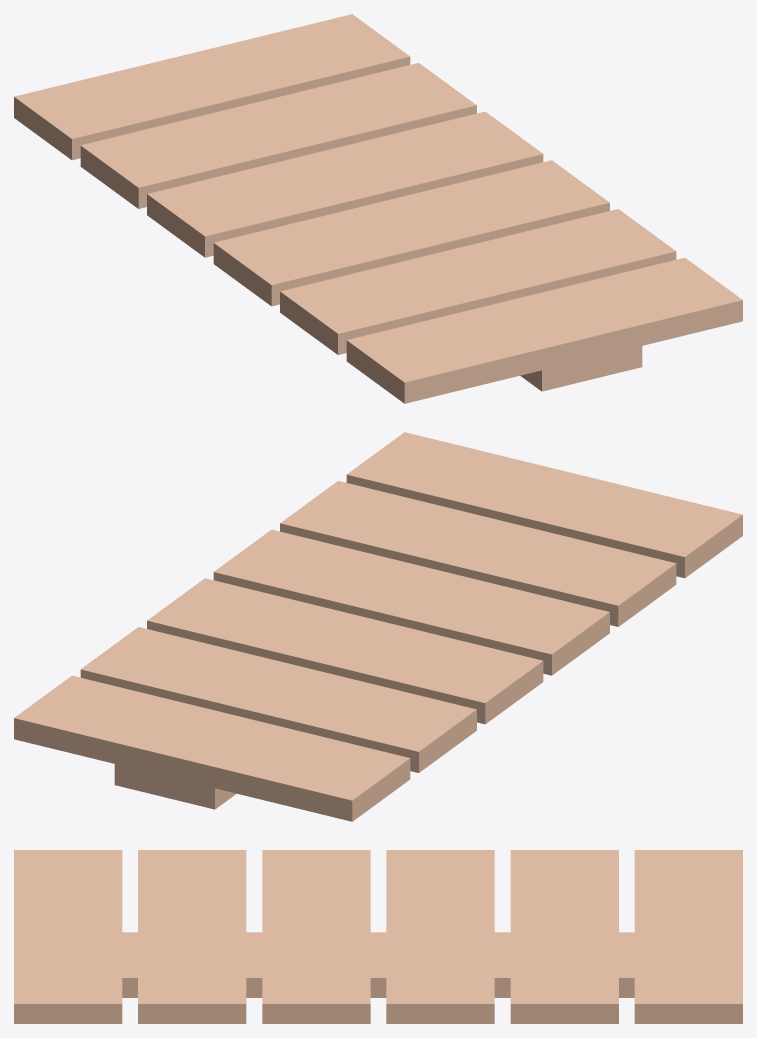
3 views of the same model, one above another, from view 1: azimuth 30°, elevation 25°; view 2: azimuth 150°, elevation 25°; view 3: azimuth 270°, elevation 25° (orthographic). The views are drawn at different scales.
Visible parts, largest first — view 1: planks; view 2: planks; view 3: planks.
Boxes of the visible parts, <box> form: planks: <box>14,14,742,403</box>; planks: <box>14,432,742,821</box>; planks: <box>14,850,742,1023</box>.
Bounding box in the file's own units: 0.5 × 0.06 × 1.
